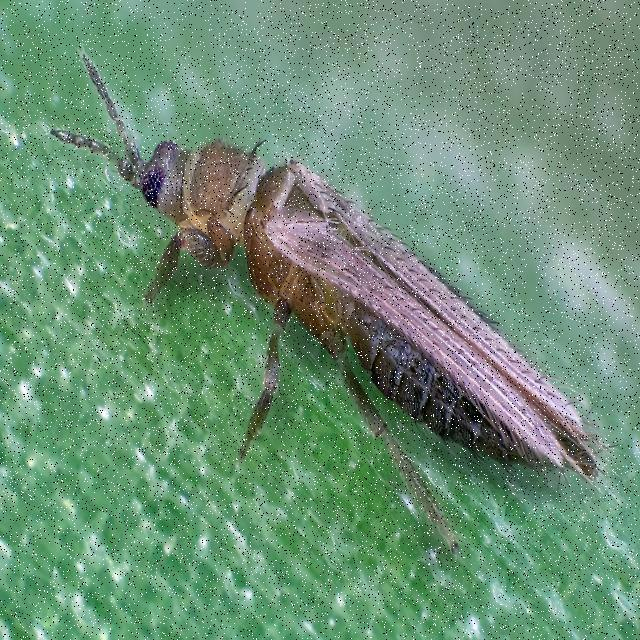Thrips: (73, 99, 618, 521)
